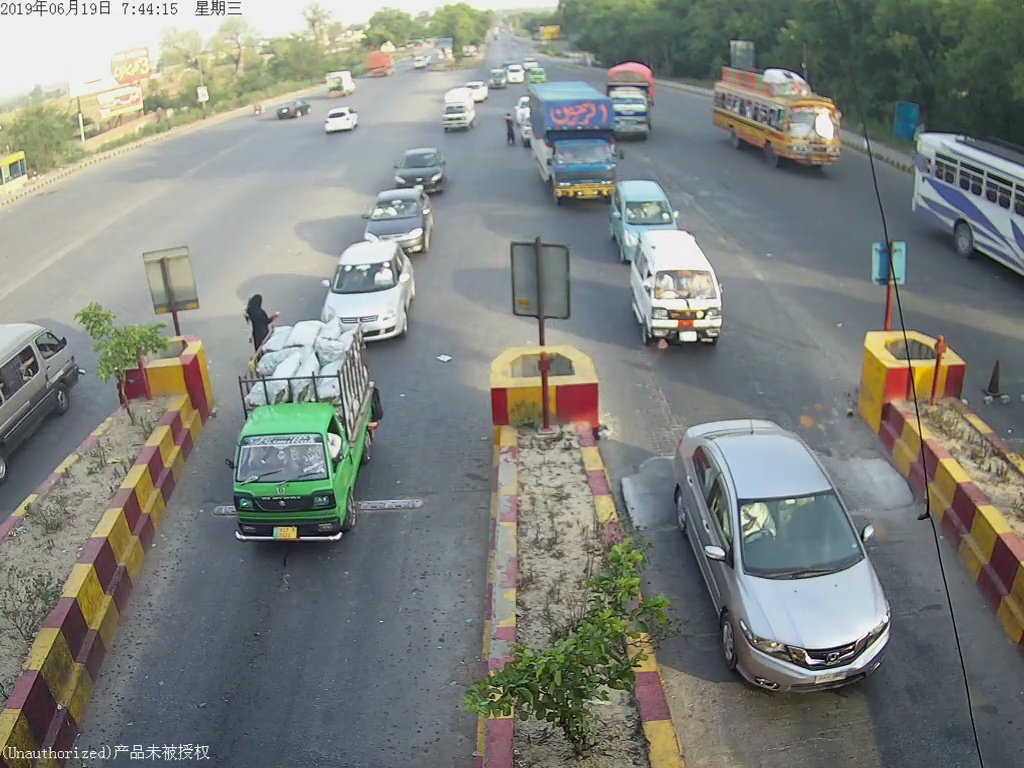Cat-1: (675, 420, 892, 702), (231, 332, 390, 549), (634, 241, 729, 349), (319, 251, 411, 332), (367, 203, 436, 246), (394, 151, 441, 185)
Cat-2: (530, 81, 616, 207)
